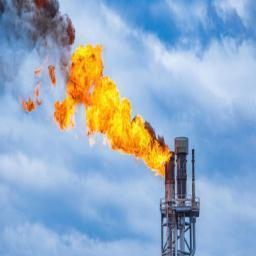fire: (53, 41, 172, 177)
smoke: (0, 0, 75, 122)
